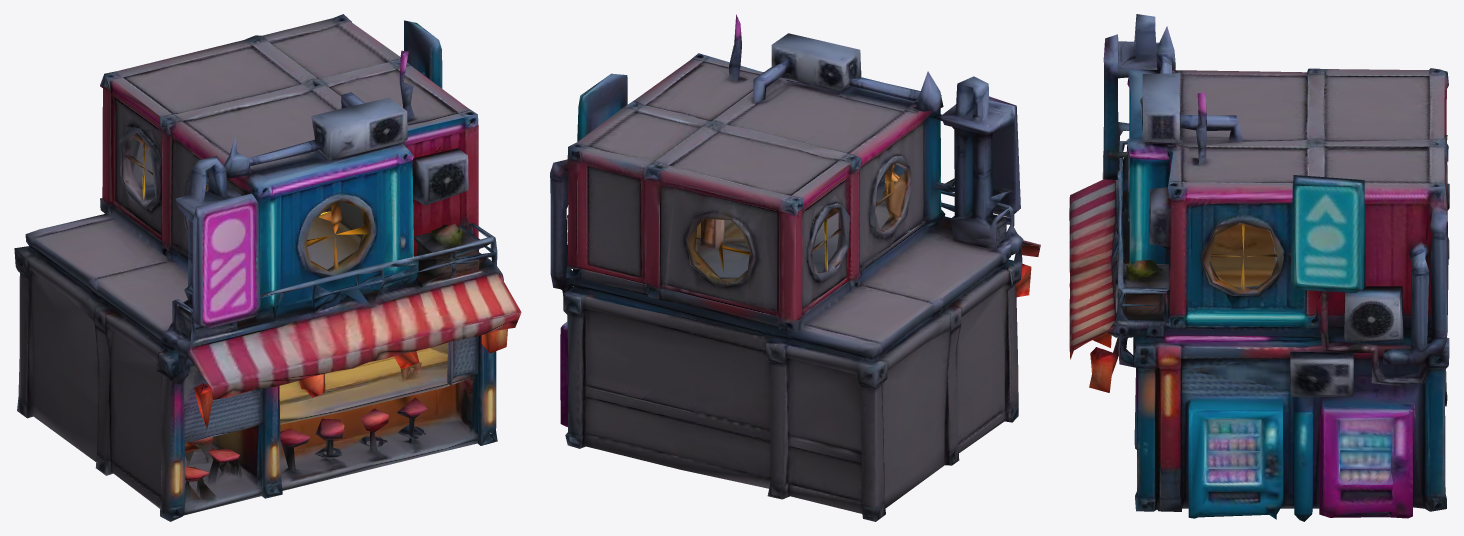
File: cyber-shop.glb
3 views of the same model, side by side, from view 1: azimuth 30°, elevation 25°; view 2: azimuth 150°, elevation 25°; view 3: azimuth 270°, elevation 25° (orthographic). The views are drawn at different scales.
Visible parts, largest first — view 1: cyber-shop; view 2: cyber-shop; view 3: cyber-shop.
Boxes of the visible parts, <box> form: cyber-shop: <box>14,14,521,521</box>; cyber-shop: <box>550,14,1040,521</box>; cyber-shop: <box>1069,14,1449,521</box>.
Size of the model in its own units: 8.85 by 9 by 7.91.
Materials: 1 (1 with a texture image).
